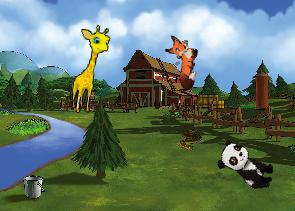fox: (160, 34, 201, 90)
giraffe: (69, 23, 112, 116)
panda: (213, 137, 280, 194)
